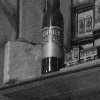beer: (37, 1, 62, 76)
